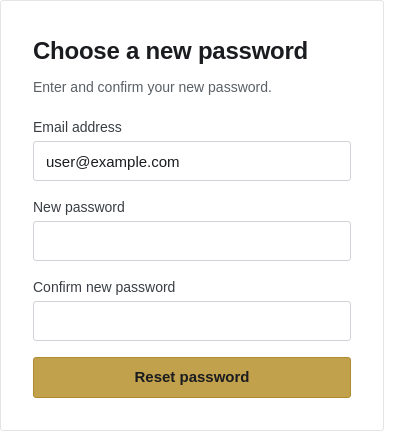
Test: ResetPassword › submits the emailed token and new password
Type "new-secure-password" into the password field labelled "New password" at (192, 241), box [33,221,351,261]
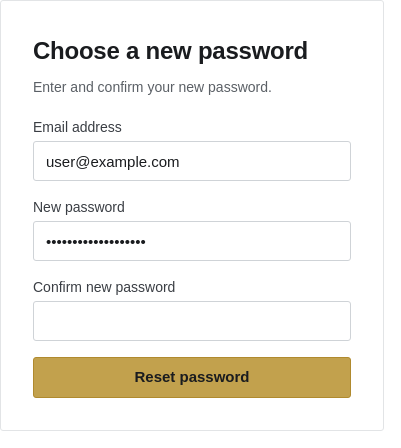
Type "new-secure-password" into the password field labelled "Confirm new password" at (192, 321), box [33,301,351,341]
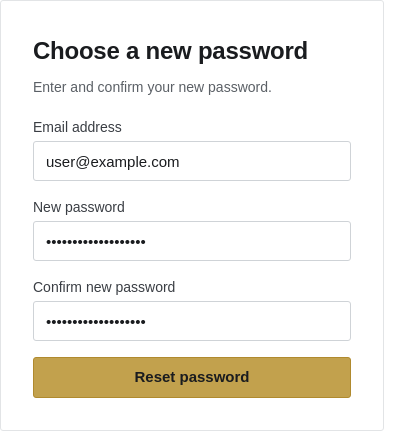
Submit the form, box [33,117,351,398]
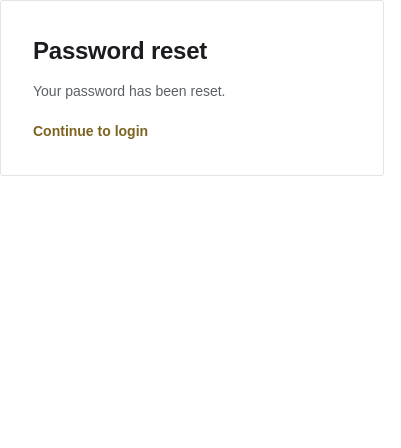
Check: the text "Your password has been reset." is shown, box [33,83,226,99]
Check: the text "Continue to login" is shown, box [33,121,148,141]
